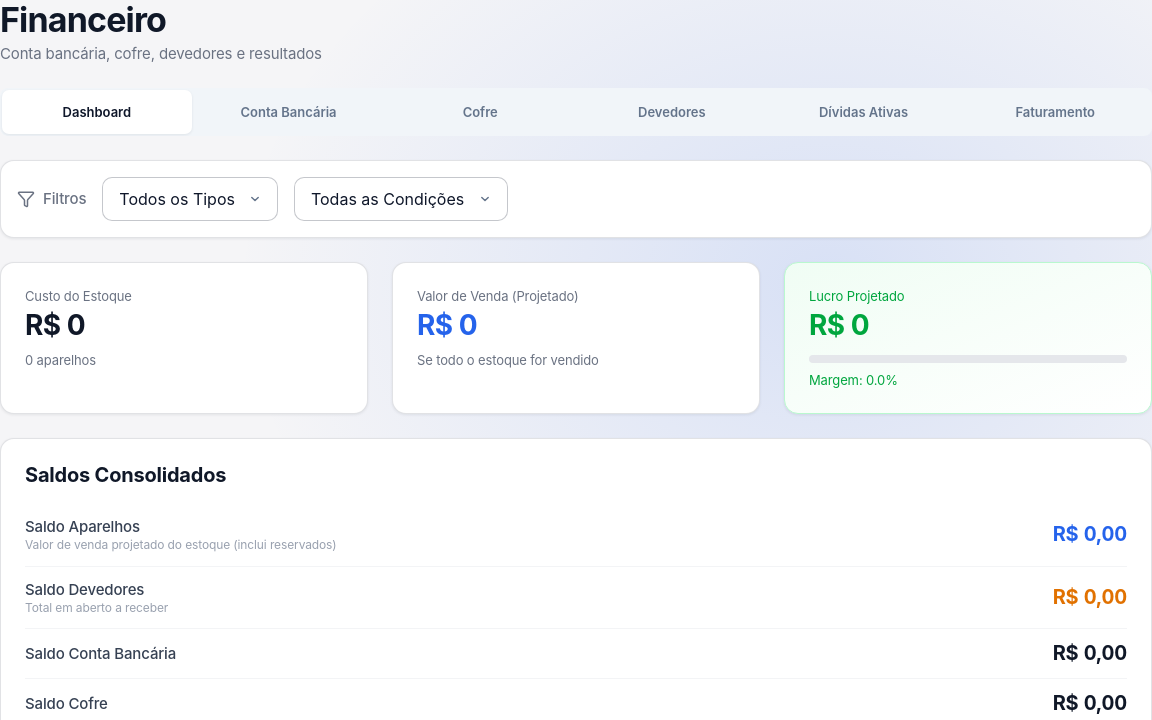
Test: Finance account integrity guards › does not offer manual entries on the virtual Devedores account
The width and height of the screenshot is (1152, 720).
Click the button with test id "finance-tab-bank" at point(289, 112), box [194,90,383,134]
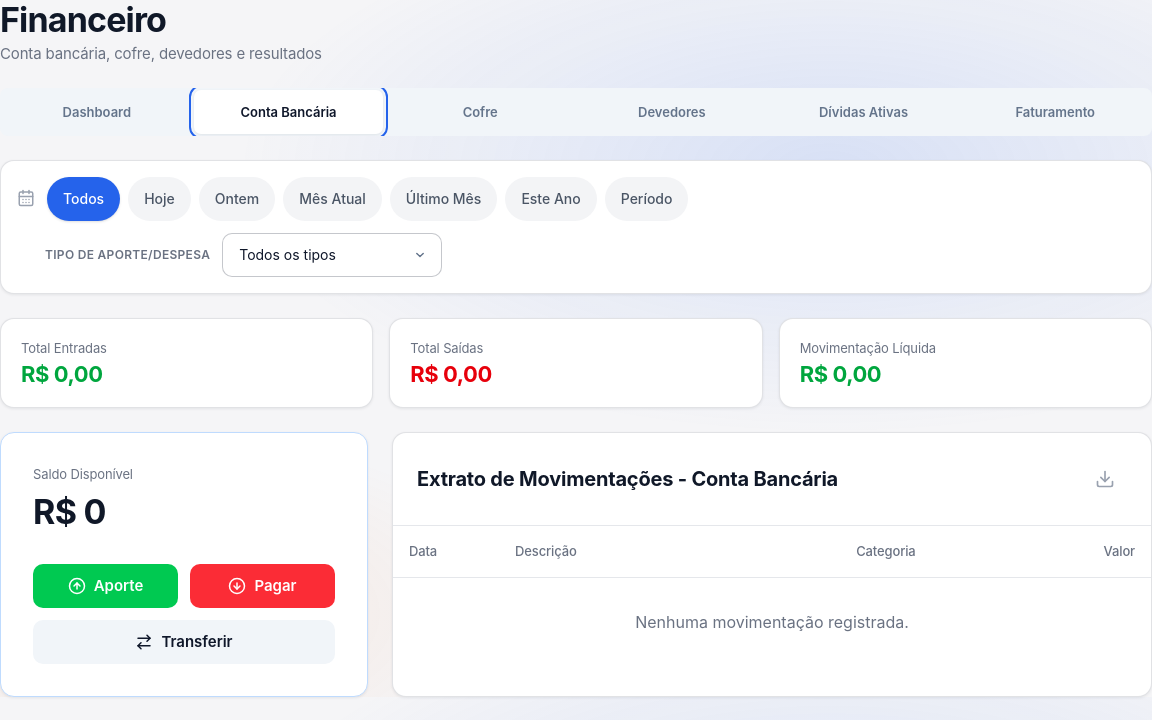
Check: the button with test id "finance-action-aporte" is shown, box [33,564,178,608]
Click the button with test id "finance-tab-debtors" at point(672, 112), box [577,90,767,134]
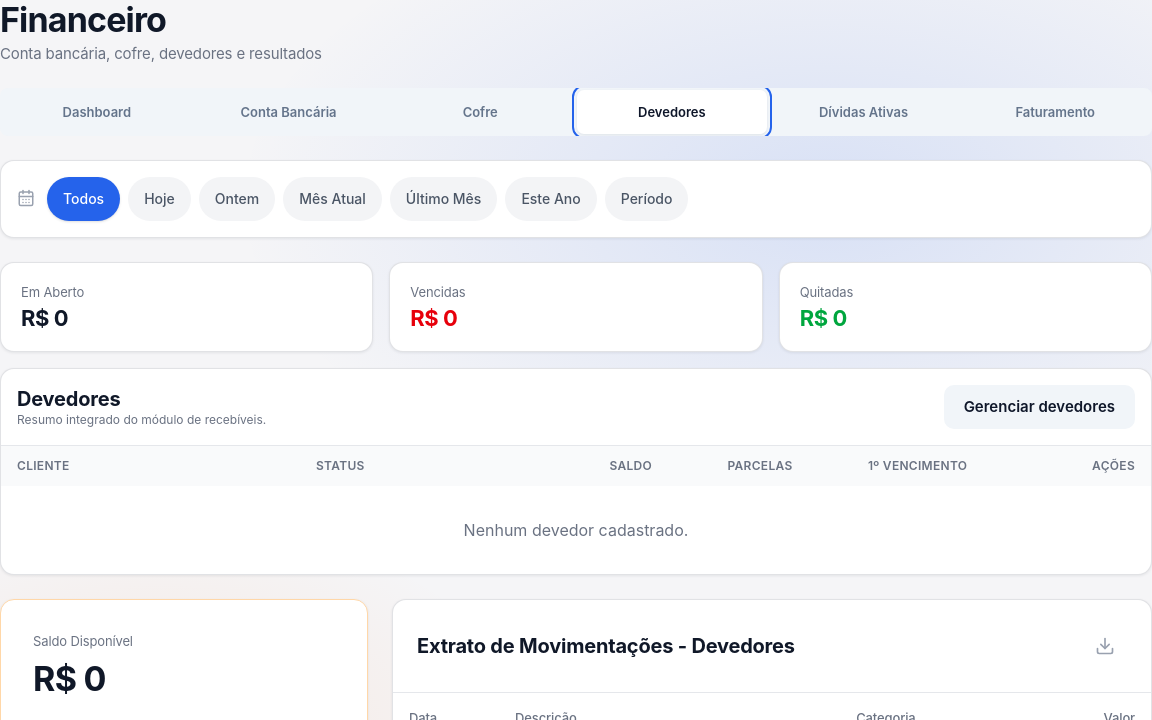
Check: the button with test id "finance-action-aporte" is gone
